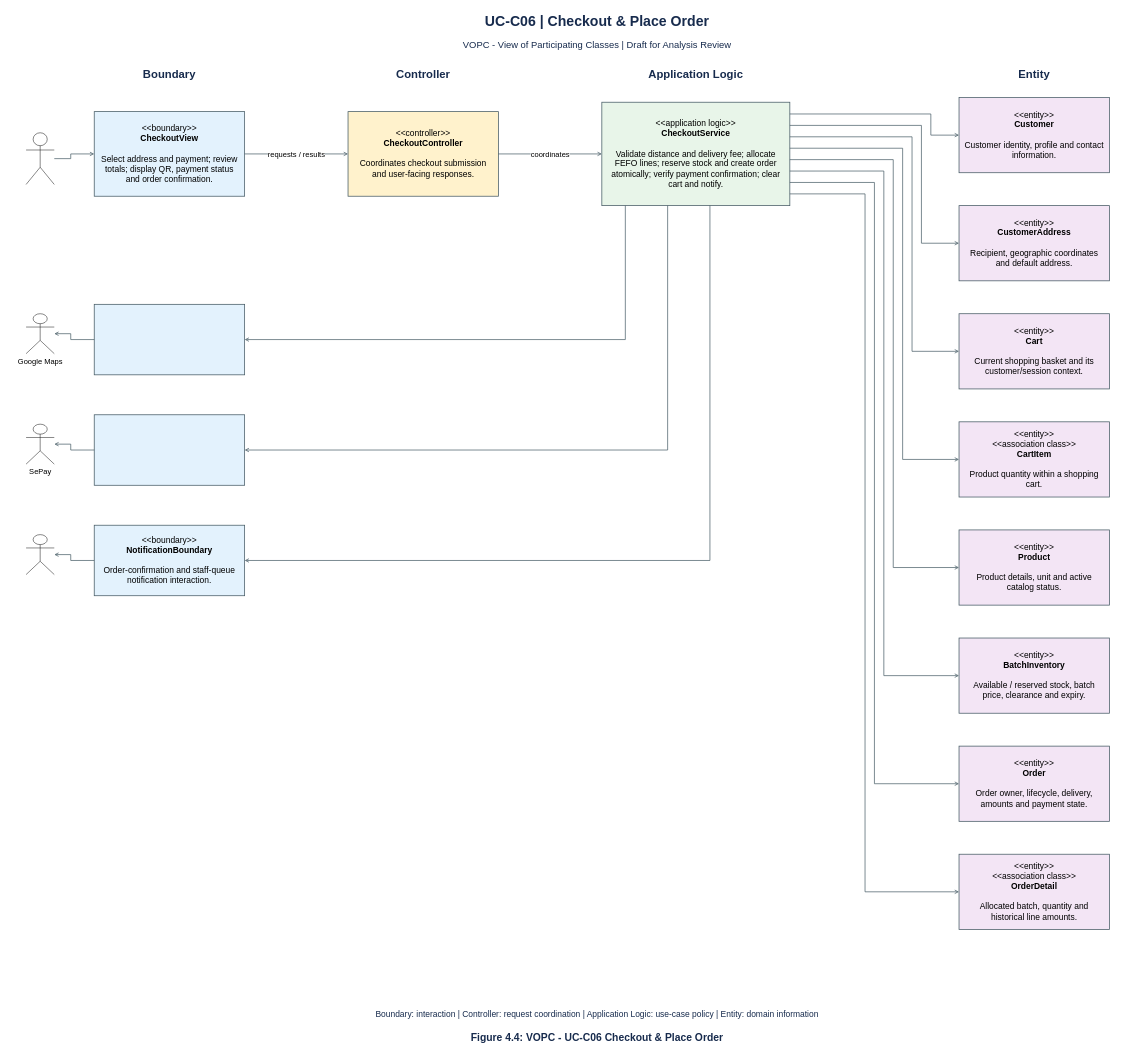
This 1146x1055 diagram has some shape labels left out. The shapes that lost their labels are listed below. From the top down, each one's box as (x1, y1, x2, y2) in pixels, then its label:
(26, 132, 54, 184): Customer
(94, 304, 245, 375): <<boundary>> DistanceBoundary Driving-distance request and response.
(94, 414, 245, 485): <<boundary>> PaymentBoundary VietQR generation and payment callback exchange.
(26, 534, 54, 575): Notification Service
